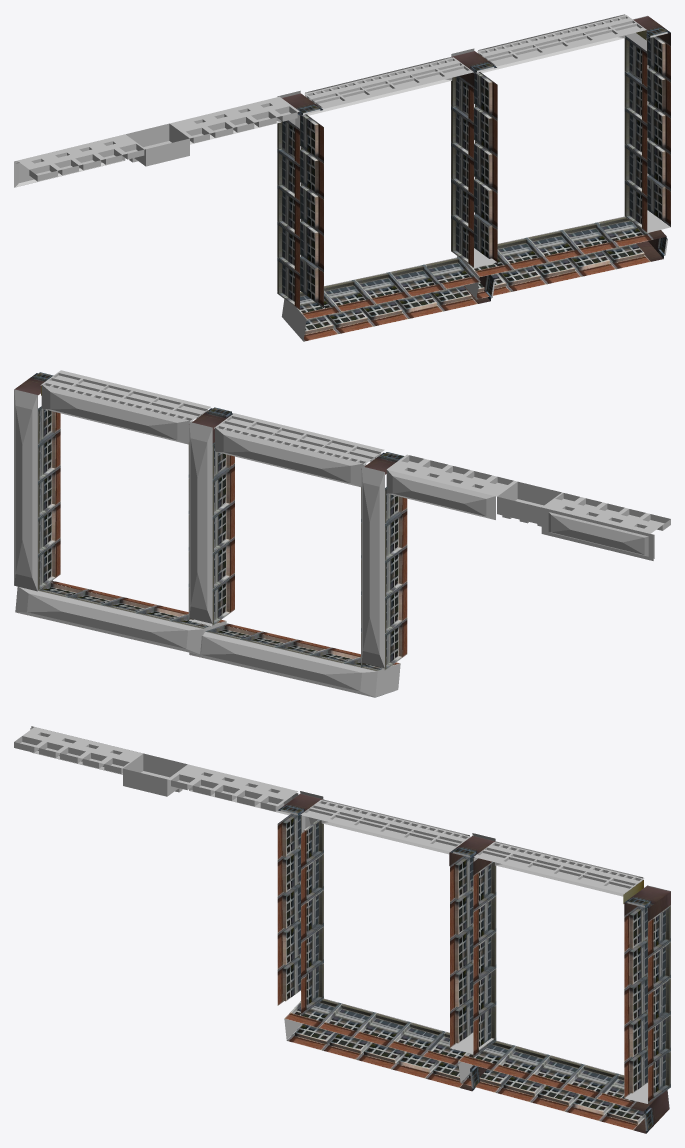
File: ensooooooooooon.fbx
3 views of the same model, one above another, from view 1: azimuth 30°, elevation 25°; view 2: azimuth 150°, elevation 25°; view 3: azimuth 330°, elevation 25° (orthographic).
Parts seen in each view (by area): view 1: kantin son, yan pencere.009, yan pencere.005, yan pencere.001, yan pencere.006, yan pencere.002, yan pencere, yan pencere.003, yan pencere.007, yan pencere.008, yan pencere.004, pencereli sarı duvar.002 (+5 smaller); view 2: kantin son, ÇATI2.005, ÇATI2.014, ÇATI2.002, ÇATI2.012, ÇATI2.001, yan pencere.001, yan pencere.007, yan pencere.003, ÇATI2.003, ÇATI2.009, pencereli sarı duvar.002 (+8 smaller); view 3: kantin son, yan pencere.009, yan pencere.005, yan pencere.007, yan pencere.001, yan pencere.002, yan pencere.003, yan pencere.006, yan pencere, yan pencere.008, yan pencere.004, pencereli sarı duvar (+3 smaller).
Boxes of the visible parts, <box> form: kantin son: <box>17,96,299,181</box>; yan pencere.009: <box>297,257,480,319</box>; yan pencere.005: <box>467,216,653,277</box>; yan pencere.001: <box>624,36,647,232</box>; yan pencere.006: <box>300,114,323,307</box>; yan pencere.002: <box>474,72,497,265</box>; yan pencere: <box>647,36,670,226</box>; yan pencere.003: <box>451,76,473,267</box>; yan pencere.007: <box>277,120,299,309</box>; yan pencere.008: <box>288,285,477,341</box>; yan pencere.004: <box>464,243,650,299</box>; pencereli sarı duvar.002: <box>304,57,473,108</box>; kantin son: <box>387,454,670,533</box>; ÇATI2.005: <box>15,586,203,654</box>; ÇATI2.014: <box>189,632,377,697</box>; ÇATI2.002: <box>14,389,37,591</box>; ÇATI2.012: <box>361,466,384,668</box>; ÇATI2.001: <box>189,422,212,623</box>; yan pencere.001: <box>38,406,60,590</box>; yan pencere.007: <box>384,486,407,670</box>; yan pencere.003: <box>212,442,234,625</box>; ÇATI2.003: <box>41,384,189,444</box>; ÇATI2.009: <box>215,427,363,487</box>; pencereli sarı duvar.002: <box>214,413,384,466</box>; kantin son: <box>14,727,297,811</box>; yan pencere.009: <box>284,998,465,1065</box>; yan pencere.005: <box>458,1040,647,1107</box>; yan pencere.007: <box>277,814,301,1005</box>; yan pencere.001: <box>624,906,647,1097</box>; yan pencere.002: <box>473,861,496,1057</box>; yan pencere.003: <box>450,856,473,1047</box>; yan pencere.006: <box>301,819,323,1015</box>; yan pencere: <box>648,905,670,1103</box>; yan pencere.008: <box>287,1024,469,1087</box>; yan pencere.004: <box>461,1069,644,1130</box>; pencereli sarı duvar: <box>474,842,644,893</box>.
Size of the model in its own units: 1612 by 576 by 126.
